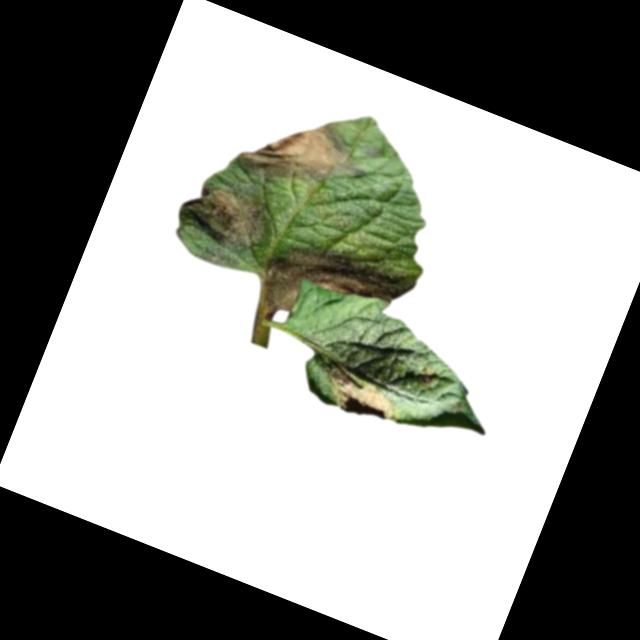Late_blight: (253, 223, 420, 356), (231, 93, 374, 210), (183, 175, 281, 263), (314, 356, 406, 429)
